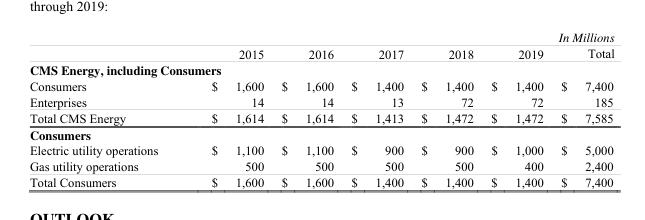table: (28, 28, 613, 189)
table column: (28, 28, 184, 189), (184, 28, 271, 189), (271, 28, 341, 189), (341, 28, 411, 189), (411, 28, 481, 189), (481, 28, 551, 189), (551, 28, 613, 189)
table column header: (28, 28, 613, 60)
table projected row header: (28, 60, 613, 78), (28, 125, 613, 142)
table row: (28, 60, 613, 78), (28, 125, 613, 142), (28, 157, 613, 174), (28, 28, 613, 44), (28, 44, 613, 60), (28, 93, 613, 109), (28, 109, 613, 125), (28, 78, 613, 93), (28, 142, 613, 157), (28, 174, 613, 189)
table spanning cell: (184, 28, 271, 60), (271, 28, 341, 60), (341, 28, 411, 60), (411, 28, 481, 60), (481, 28, 613, 44)
